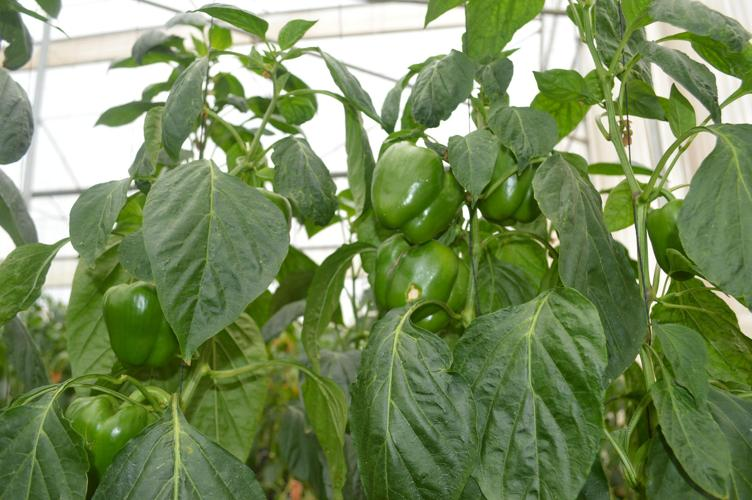BellPepper: (366, 144, 460, 241), (371, 244, 470, 327), (95, 283, 176, 372), (65, 392, 141, 473), (471, 147, 545, 226), (641, 198, 689, 285)
